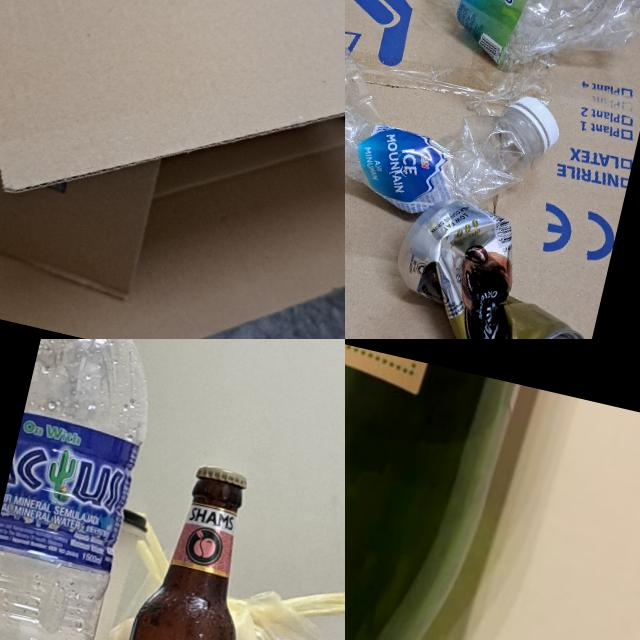garrafa de vidro: (345, 339, 538, 640), (101, 454, 273, 640)
garrafa plástica: (0, 339, 174, 640), (345, 22, 566, 241), (401, 0, 640, 95)
lata: (366, 191, 614, 339)
papelão: (0, 0, 345, 339), (345, 0, 640, 339)
tampa plástica: (498, 90, 564, 153)
